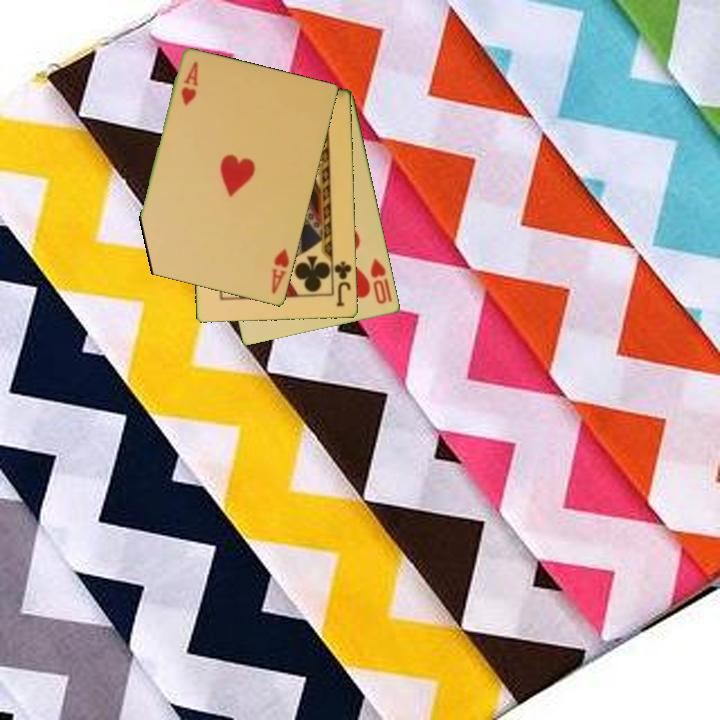10h: (367, 255, 390, 307)
Ah: (268, 246, 292, 297), (178, 58, 201, 109)
Jc: (331, 258, 354, 309)
